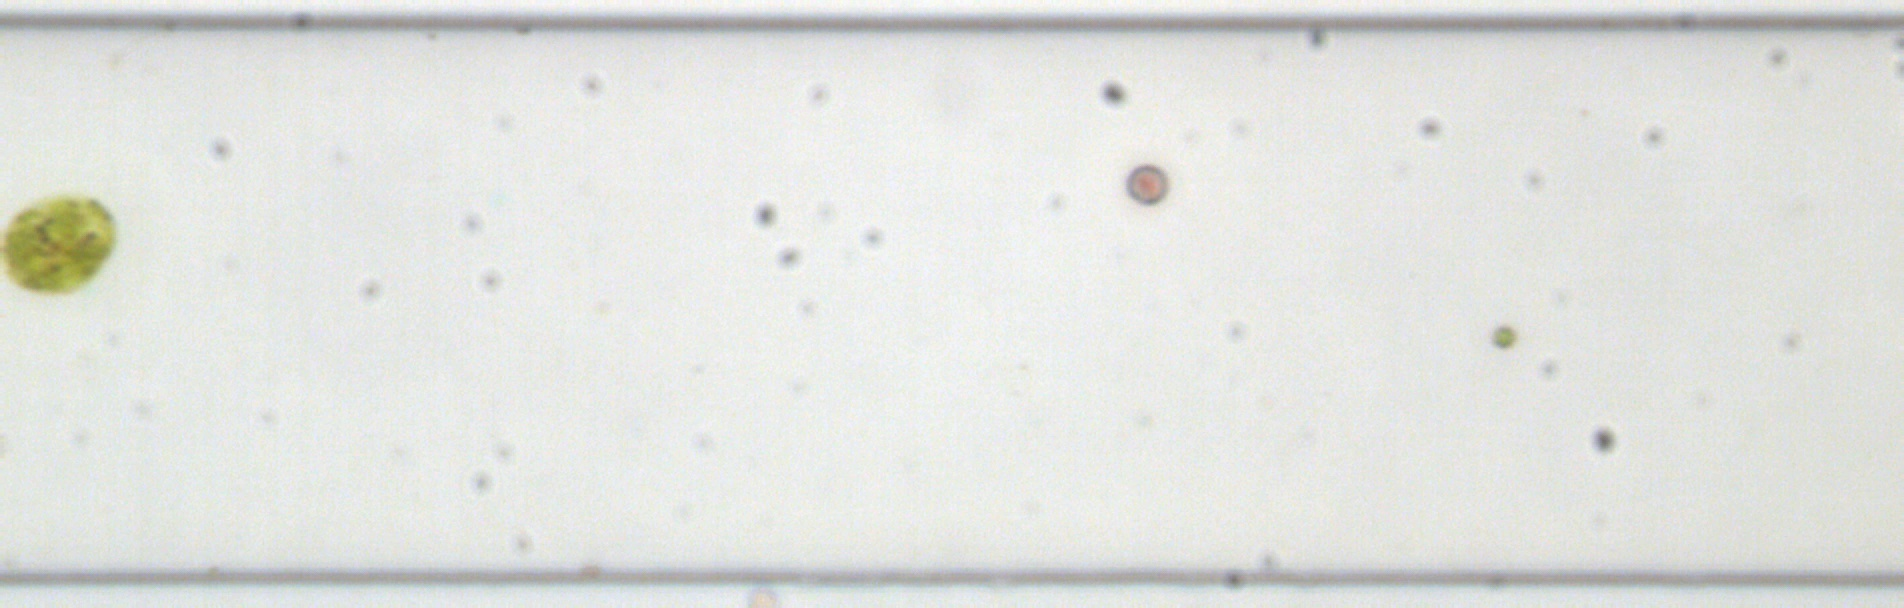Chlorella: (1487, 322, 1518, 351)
Haematococcus: (0, 186, 121, 302)
Porphyridium: (1120, 161, 1171, 209)
